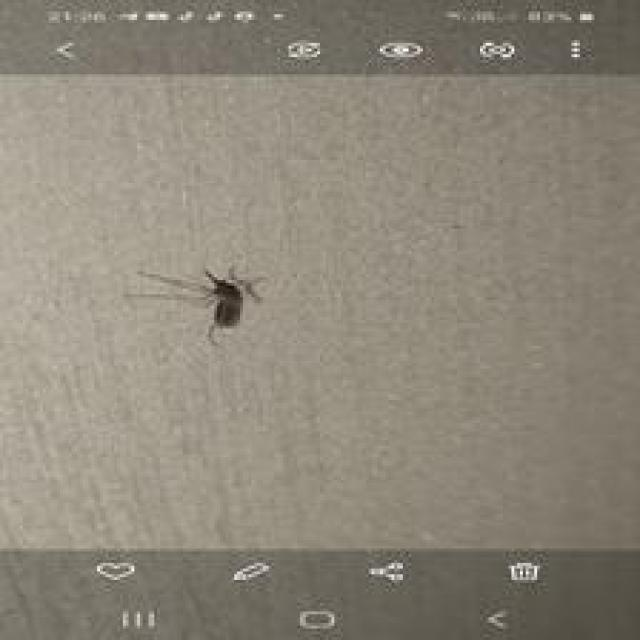Culex: (123, 263, 266, 346)
